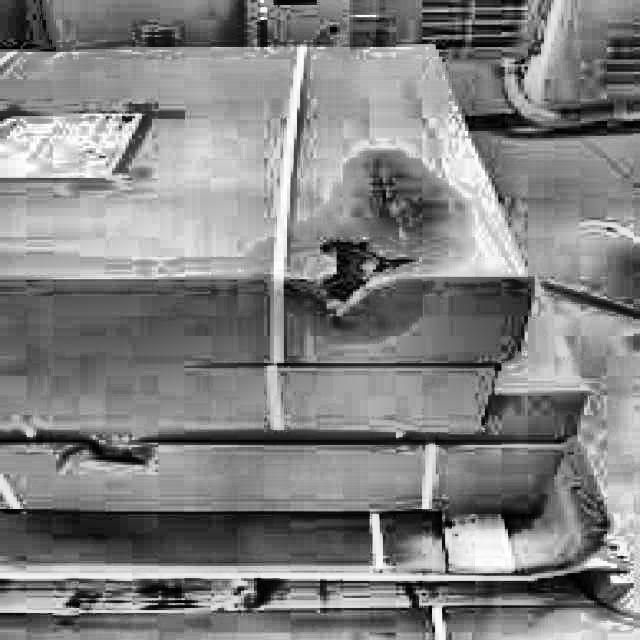box: (0, 36, 600, 527)
hole: (309, 235, 417, 308)
